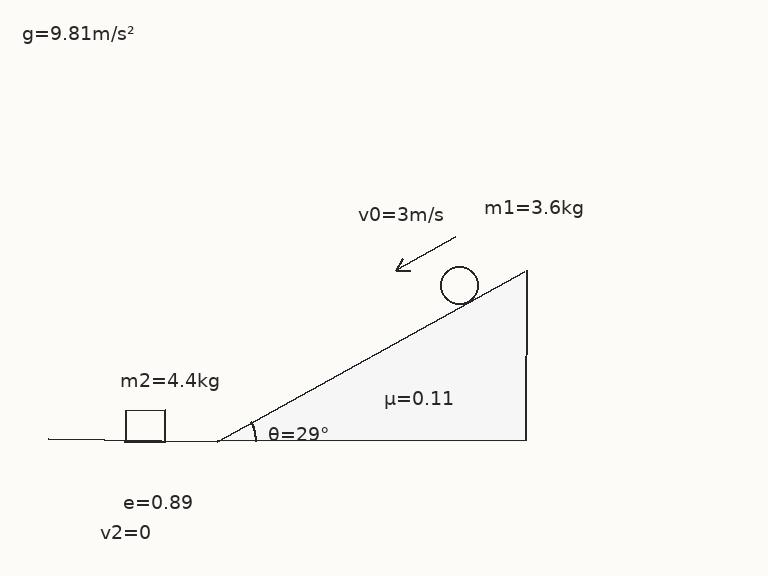ball: (438, 264, 480, 306)
block: (122, 408, 168, 443)
ramp: (214, 268, 527, 443)
